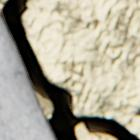brick: (0, 14, 55, 139)
crack: (1, 0, 139, 139)
